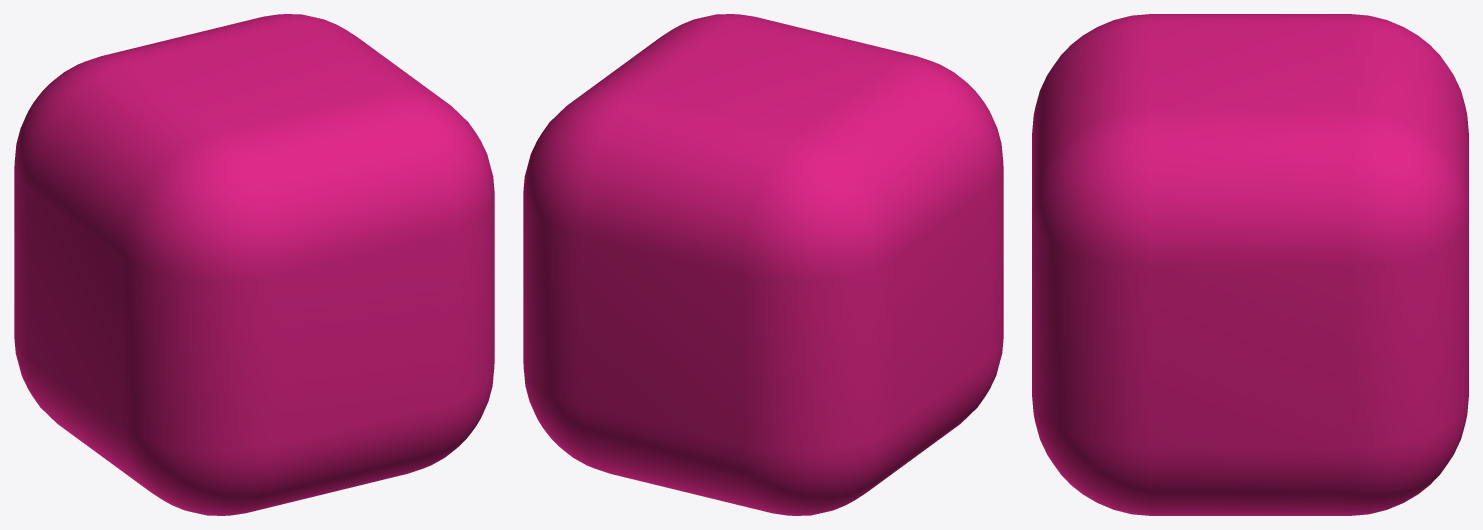
The model's file is room.fbx.
3 views of the same model, side by side, from view 1: azimuth 30°, elevation 25°; view 2: azimuth 150°, elevation 25°; view 3: azimuth 270°, elevation 25° (orthographic). The views are drawn at different scales.
Parts seen in each view (by area): view 1: Cube; view 2: Cube; view 3: Cube.
Boxes of the visible parts, x1,y1,x2,y2 form: Cube: [14, 14, 494, 515]; Cube: [523, 14, 1003, 515]; Cube: [1032, 14, 1468, 515].
Bounding box in the file's own units: 200 × 200 × 200.
